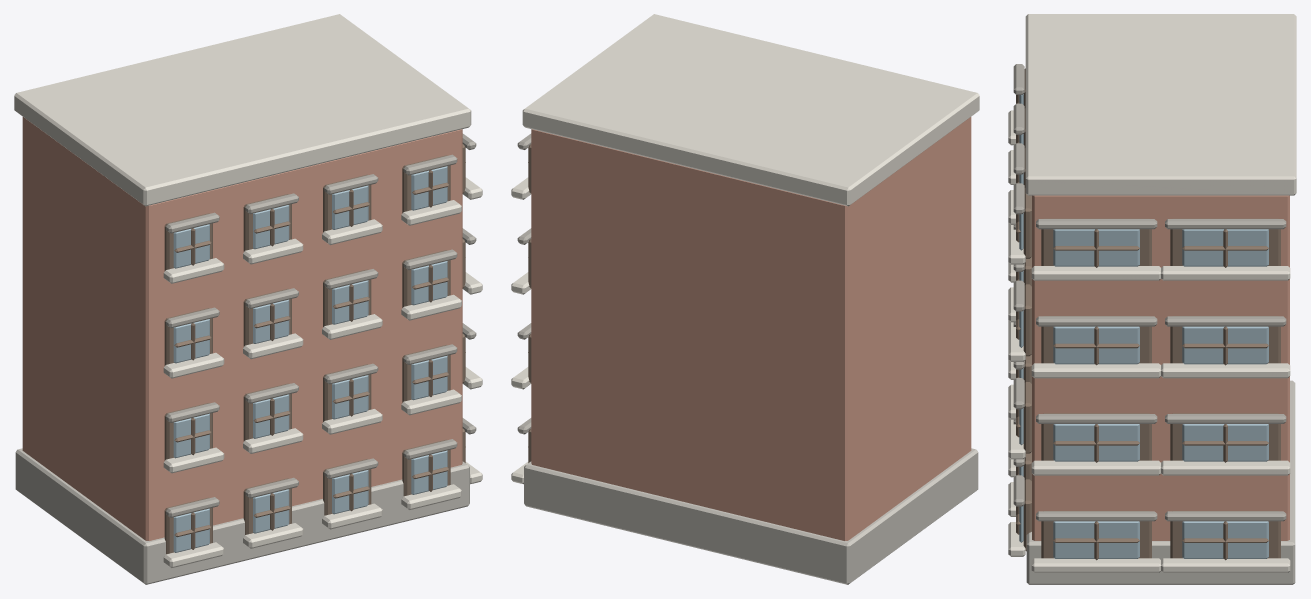
Rendered from apartment_c.glb.
3 views of the same model, side by side, from view 1: azimuth 30°, elevation 25°; view 2: azimuth 150°, elevation 25°; view 3: azimuth 270°, elevation 25° (orthographic). The views are drawn at different scales.
Parts seen in each view (by area): view 1: wall, parapet, skirt, wglass.002, wglass.006, wglass.014, wglass.010, wglass.004, wglass.003, wglass.008, wglass.009, wglass.012 (+26 smaller); view 2: wall, parapet, skirt; view 3: parapet, wall, skirt, wglass.020, wglass.021, wglass.016, wglass.017, wglass.018, wglass.019, wglass.022, wglass.023, wsill.021 (+39 smaller).
Boxes of the visible parts, x1,y1,x2,y2 form: wall: [22, 117, 462, 540]; parapet: [14, 14, 471, 206]; skirt: [15, 448, 469, 584]; wglass.002: [332, 470, 368, 514]; wglass.006: [332, 375, 368, 419]; wglass.014: [332, 185, 368, 229]; wglass.010: [332, 280, 368, 324]; wglass.004: [173, 413, 209, 458]; wglass.003: [411, 450, 447, 494]; wglass.008: [173, 319, 209, 363]; wglass.009: [253, 299, 289, 343]; wglass.012: [173, 224, 209, 268]; wall: [531, 117, 971, 540]; parapet: [522, 14, 979, 206]; skirt: [524, 448, 978, 584]; parapet: [1025, 14, 1296, 195]; wall: [1032, 195, 1289, 540]; skirt: [1026, 380, 1295, 584]; wglass.020: [1053, 326, 1139, 364]; wglass.021: [1182, 326, 1268, 364]; wglass.016: [1053, 521, 1139, 558]; wglass.017: [1182, 521, 1268, 558]; wglass.018: [1053, 424, 1139, 461]; wglass.019: [1182, 424, 1268, 461]; wglass.022: [1053, 229, 1139, 266]; wglass.023: [1182, 229, 1268, 266]; wsill.021: [1161, 363, 1290, 378].
Size of the model in its own units: 1.89 by 2.1 by 1.34.
